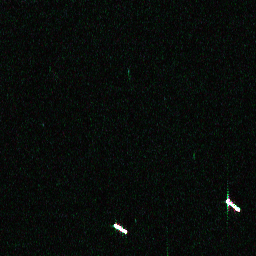ship: (223, 196, 243, 214), (111, 220, 129, 236)
